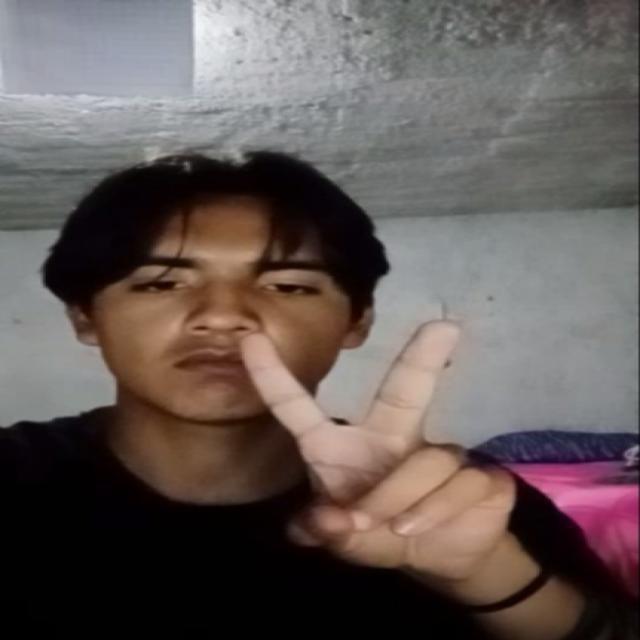V: (235, 311, 550, 586)
